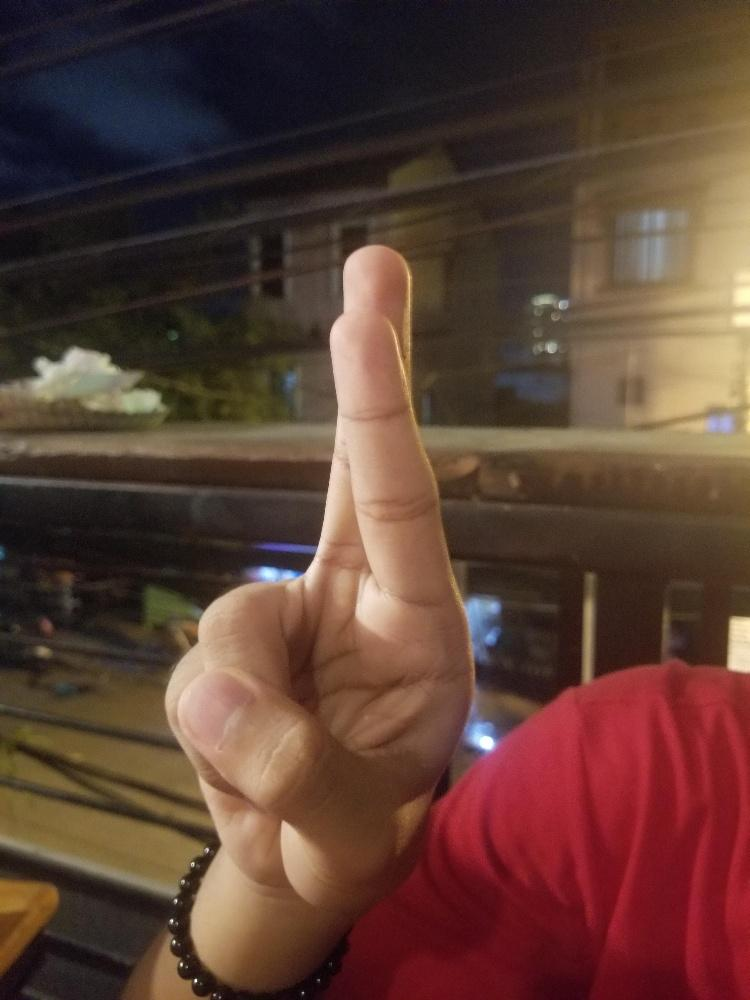r: (162, 242, 476, 908)
